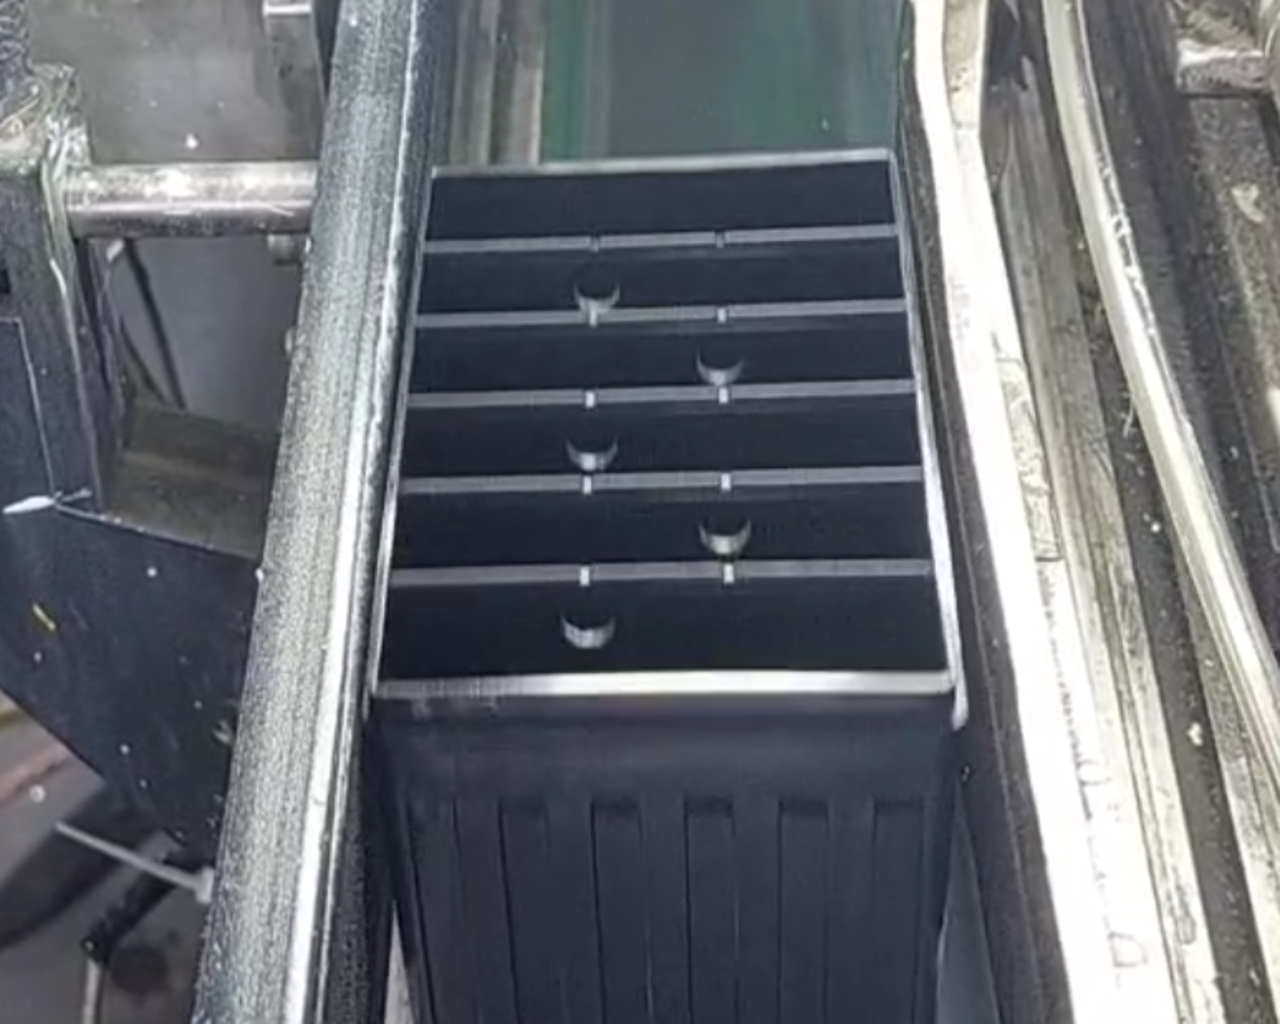box: (350, 131, 984, 743)
round: (681, 501, 763, 560), (550, 592, 624, 657), (553, 416, 630, 474), (557, 258, 630, 316), (686, 332, 754, 391)
